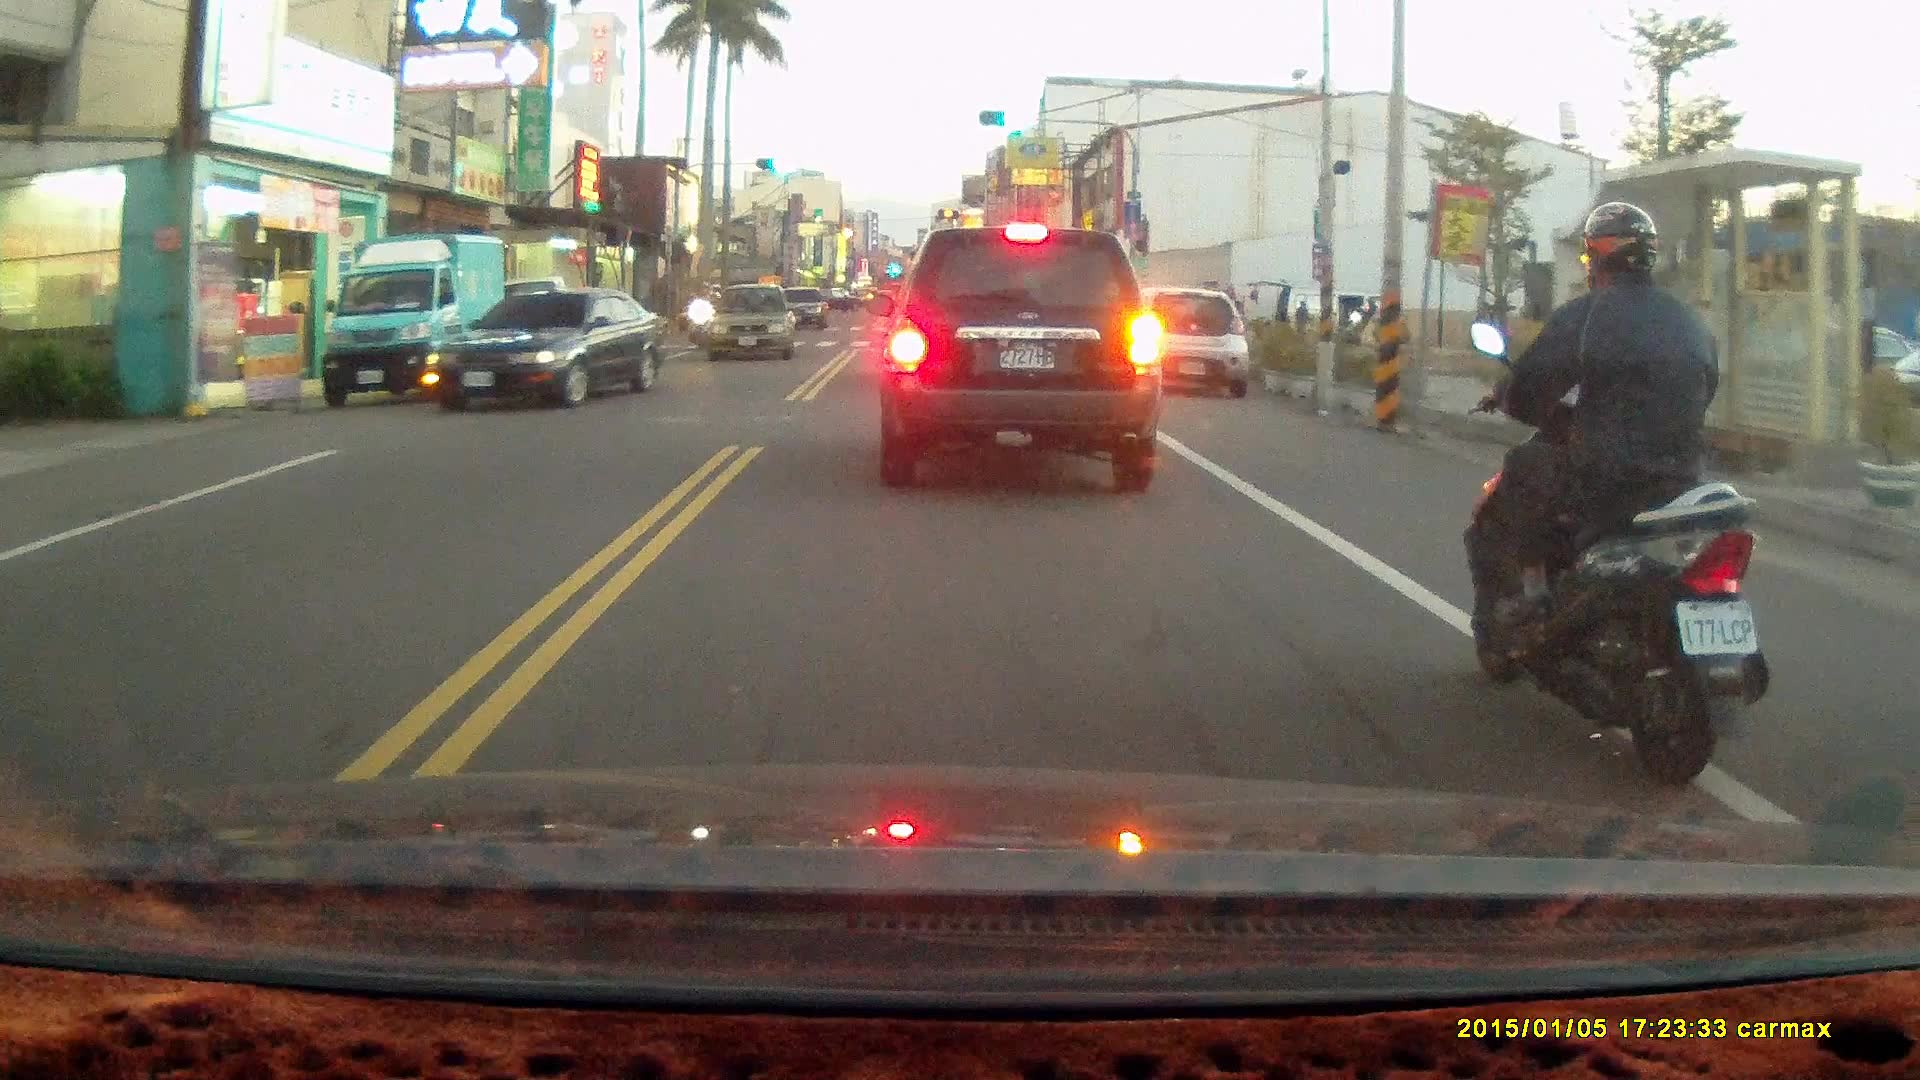rider: (1459, 201, 1767, 788), (684, 282, 717, 355)
vehicle: (875, 224, 1161, 496), (316, 231, 511, 417), (424, 290, 666, 412), (1134, 286, 1251, 403), (702, 286, 801, 367)
